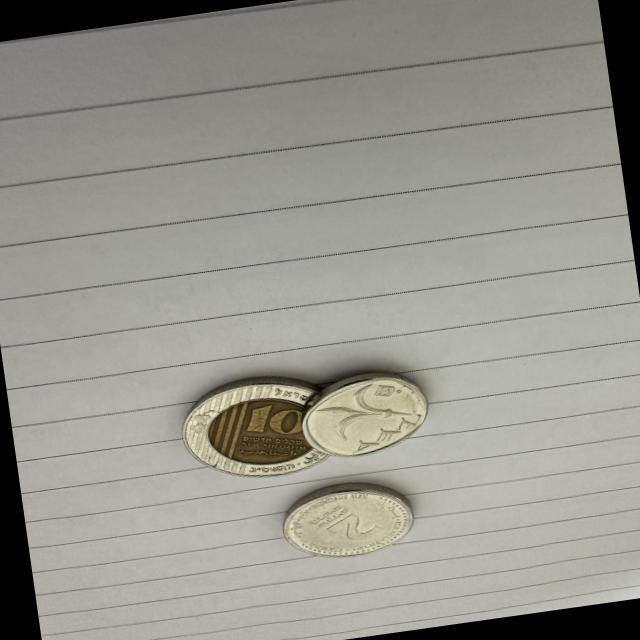1-shekel: (296, 370, 436, 466)
10-shekel: (172, 368, 344, 491)
2-shekel: (276, 478, 418, 566)
